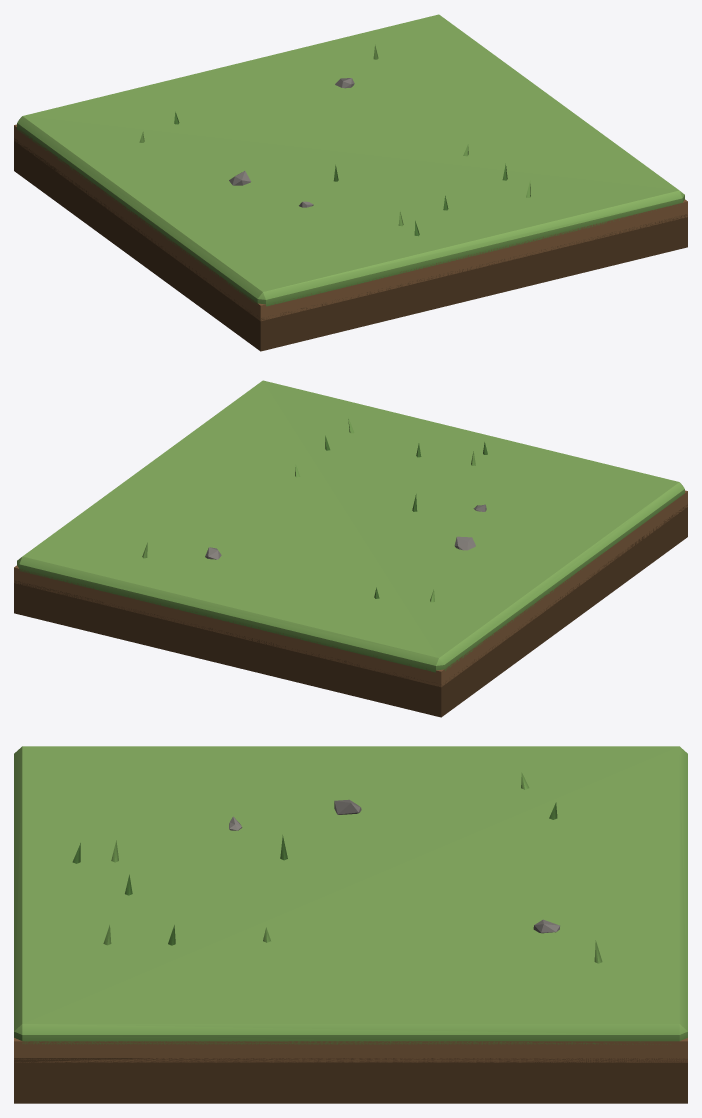
Rendered from terrain-grass-01.glb.
3 views of the same model, one above another, from view 1: azimuth 30°, elevation 25°; view 2: azimuth 150°, elevation 25°; view 3: azimuth 270°, elevation 25° (orthographic). The views are drawn at different scales.
Parts seen in each view (by area): view 1: terrain_grass_01; view 2: terrain_grass_01; view 3: terrain_grass_01.
Part boxes in pixels (x1=…): terrain_grass_01: x1=14, y1=14, x2=687, y2=351; terrain_grass_01: x1=14, y1=380, x2=687, y2=717; terrain_grass_01: x1=14, y1=746, x2=687, y2=1103.
Size of the model in its own units: 4 by 0.6541 by 4.
